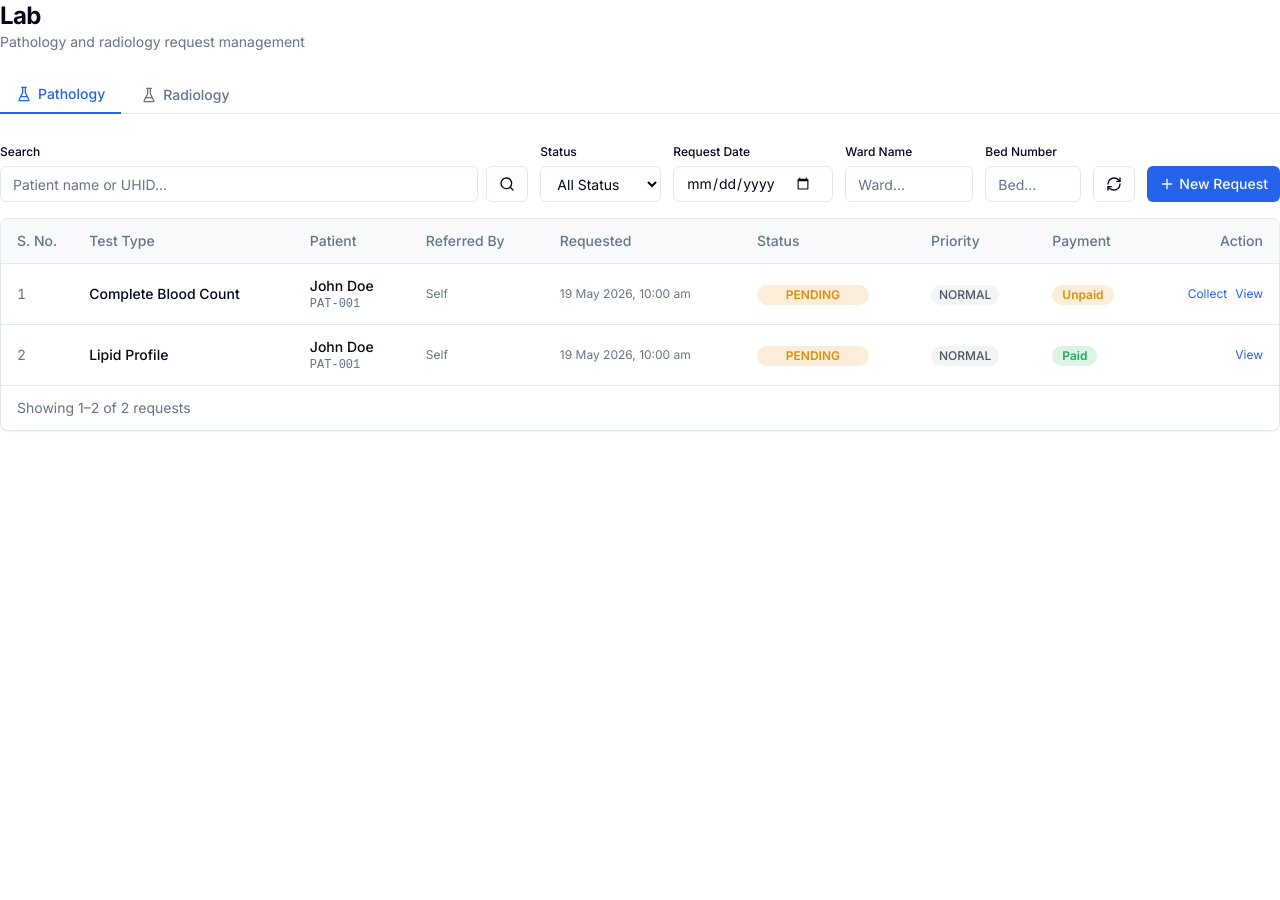
it: Lab payment — collect flow › shows a clear message when the request was already paid (409)
Click the button "Collect".
click(1207, 294)  # box [1188,286,1227,302]
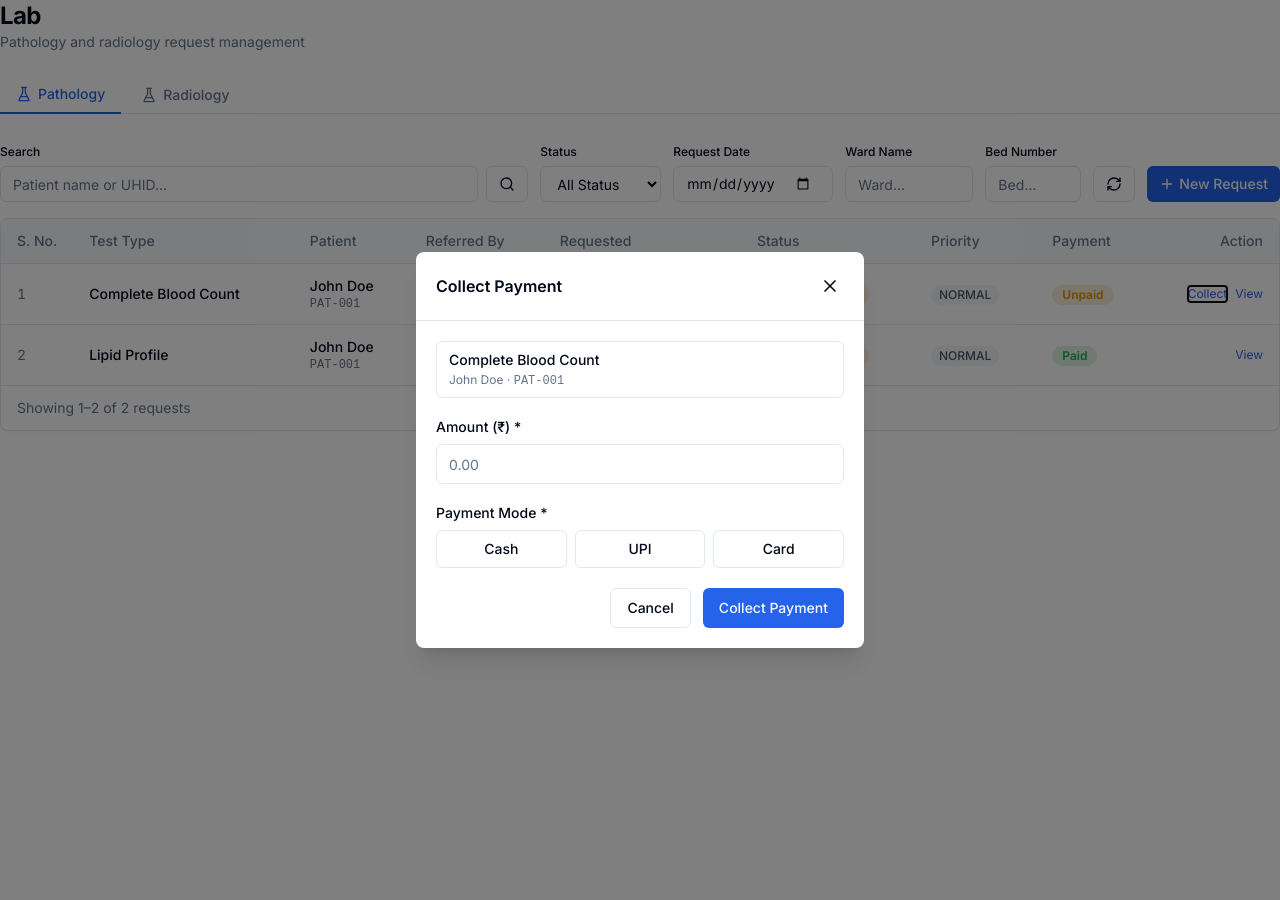
Type "450" into the number field labelled "Amount (₹) *".
click(640, 464); type("450")  # box [436,444,844,484]
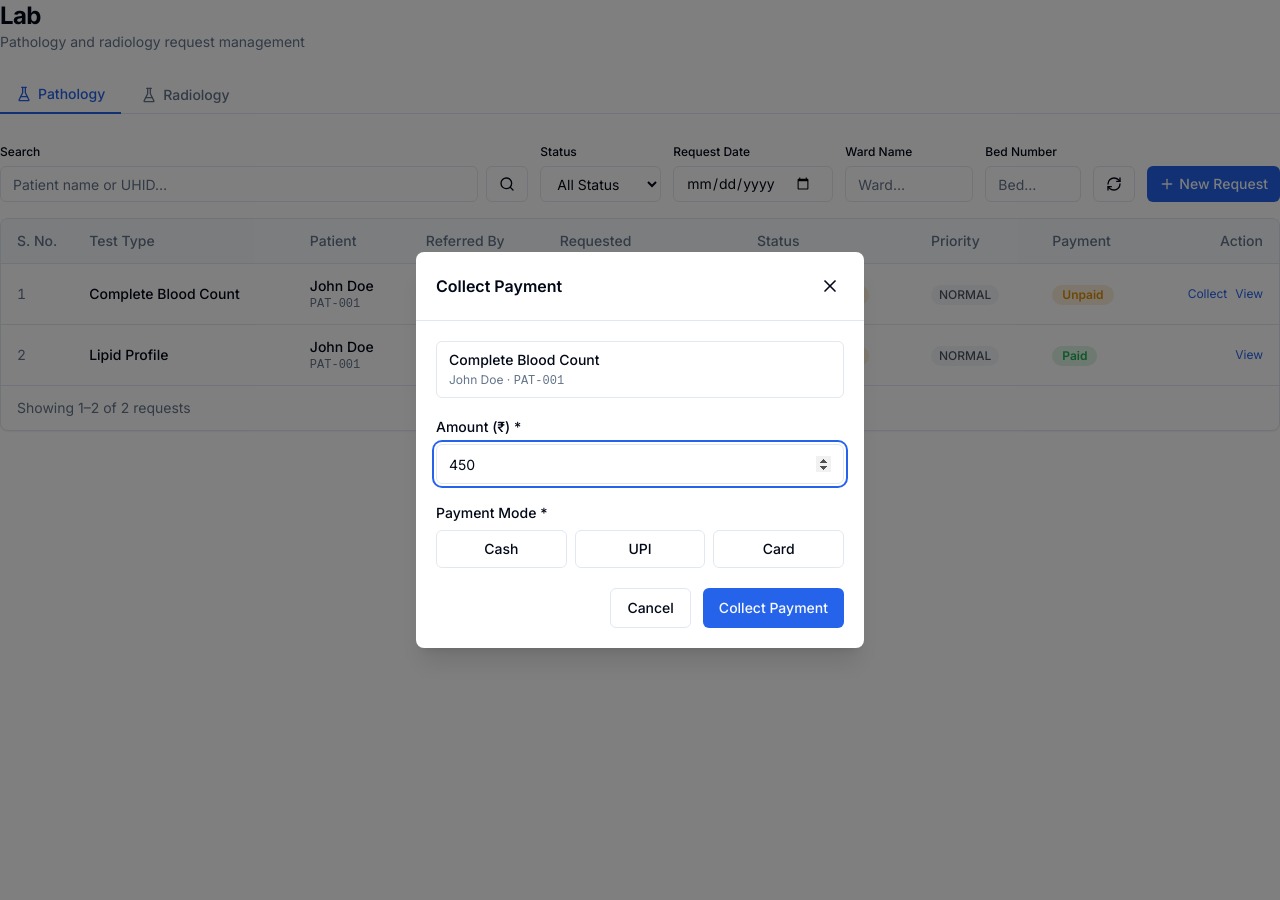
Click the button "Cash".
click(501, 549)  # box [436,530,567,568]
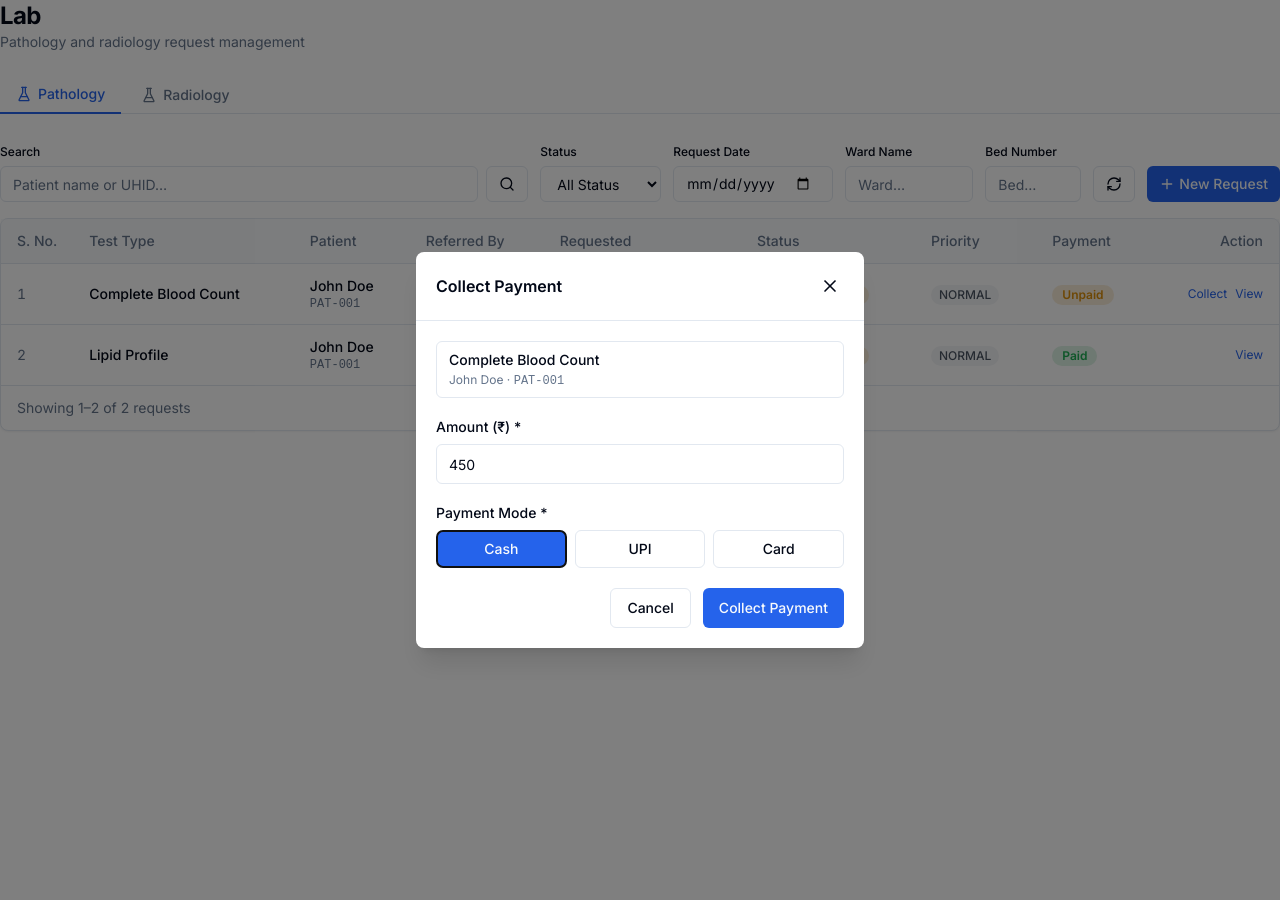
Click the button "Collect Payment".
click(773, 608)  # box [703,588,844,628]
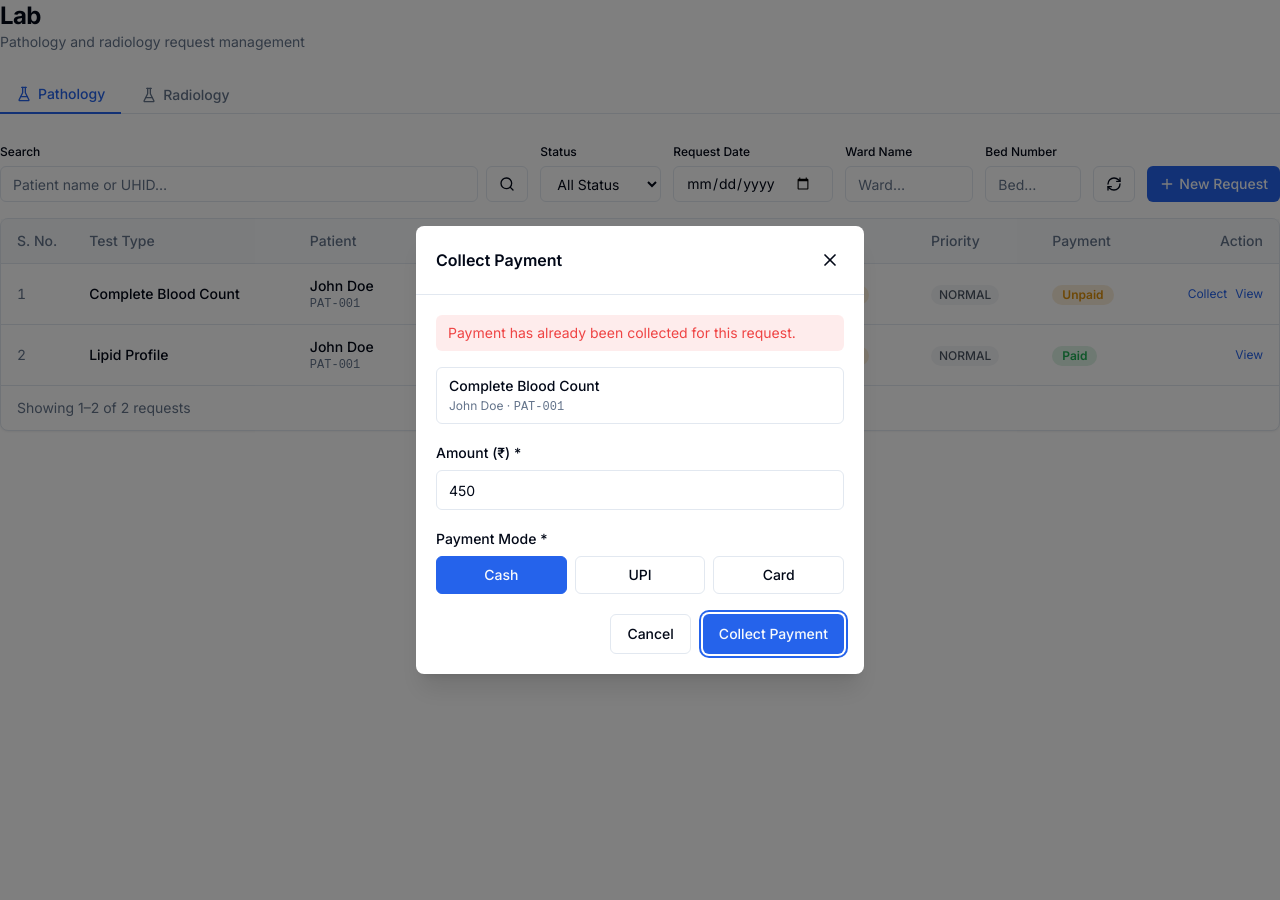
Check: the message shows "already been collected", box [448,324,796,341]
